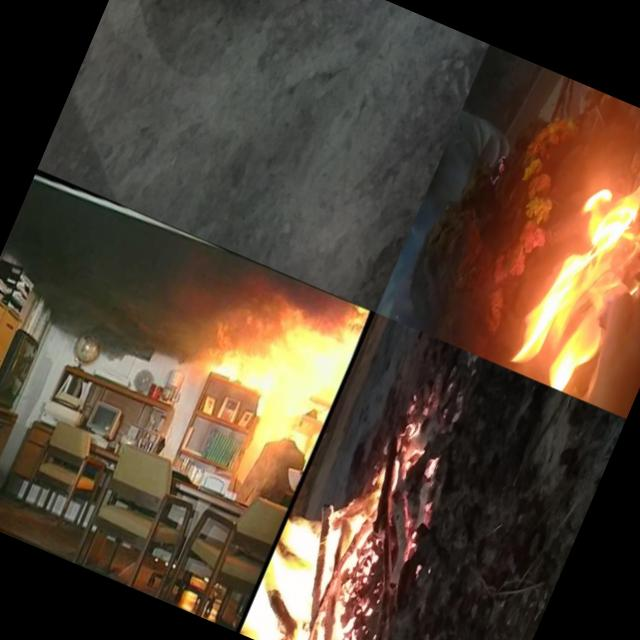fire: (238, 442, 409, 640), (211, 296, 359, 422)
smoke: (458, 44, 529, 134), (429, 117, 468, 189)
